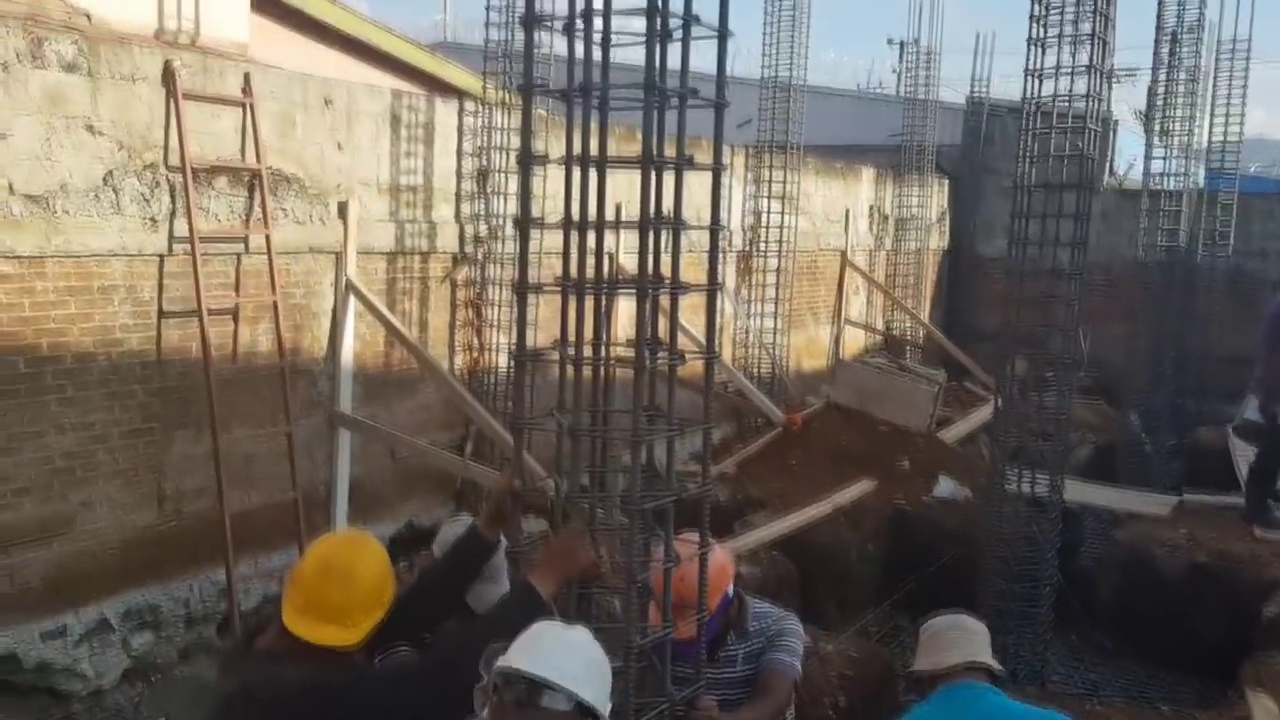helmet: (271, 541, 399, 651), (643, 536, 742, 655), (497, 629, 608, 704)
helmet-off: (900, 617, 1010, 696), (432, 514, 512, 611)
helmet-on: (240, 527, 408, 675), (633, 518, 762, 670)
person: (118, 478, 525, 712), (627, 513, 806, 716), (896, 619, 1069, 720)
